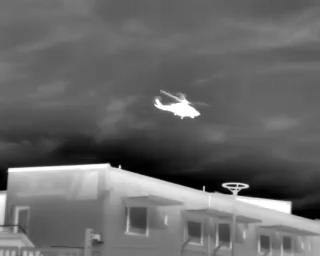HELICOPTER: (152, 85, 213, 125)
